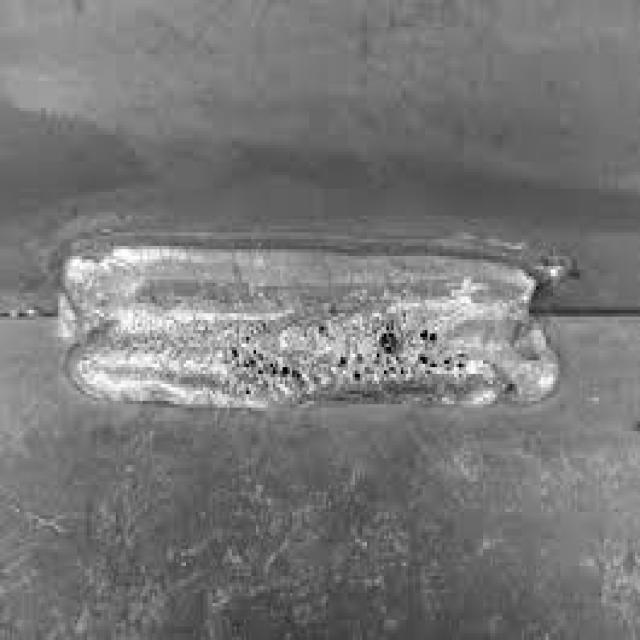Bad Weld: (48, 232, 556, 398)
Defect: (336, 320, 474, 388), (220, 327, 302, 387)
